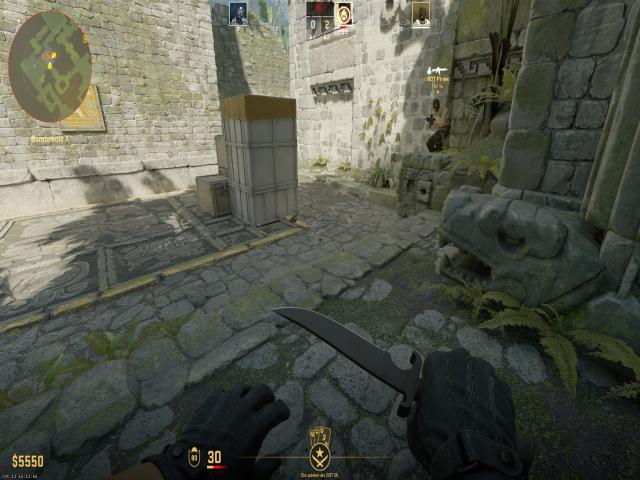Bomb: (286, 214, 301, 227)
T: (429, 97, 450, 162)
T-Head: (430, 98, 442, 112)
